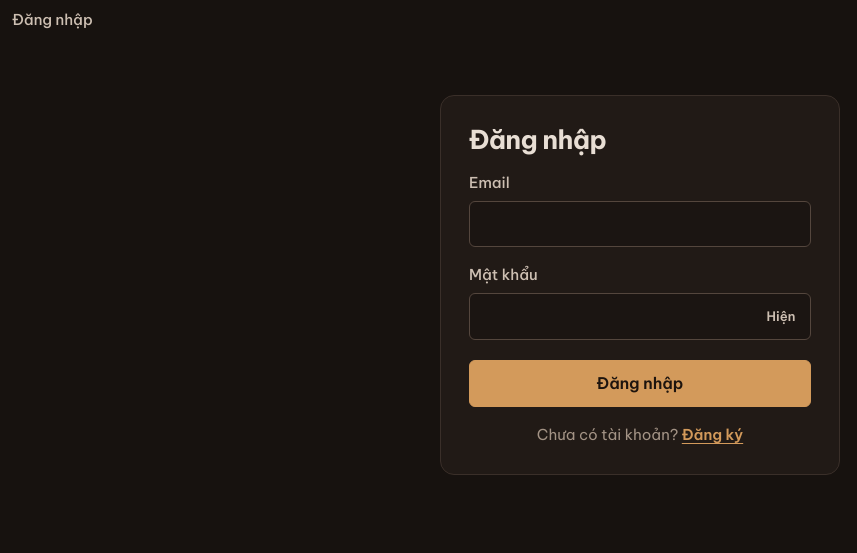
Test: AuthForm › validate phía client, không gọi API khi dữ liệu sai
This screenshot has width=857, height=553.
Type "khong-hop-le" into the field labelled "Email" at (640, 224), box top-left (469, 201), bottom-right (811, 248)
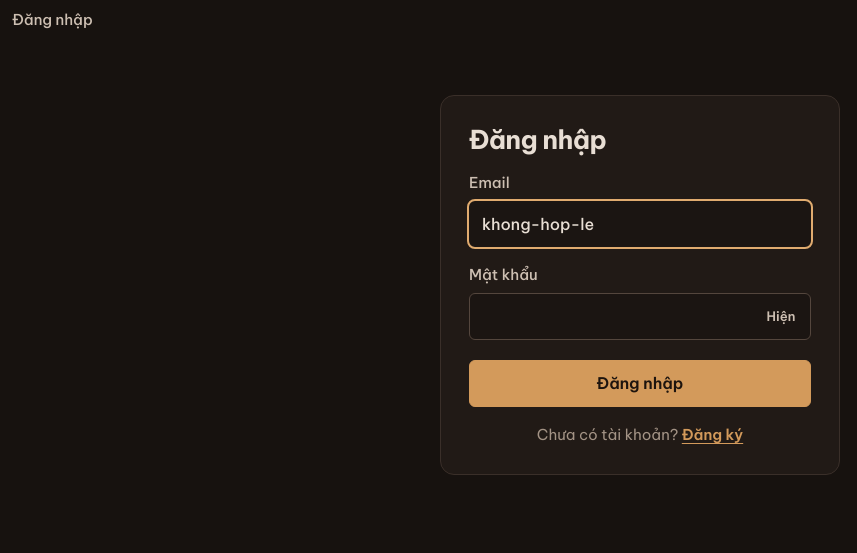
Click the button "Đăng nhập" at (640, 383), box top-left (469, 360), bottom-right (811, 407)
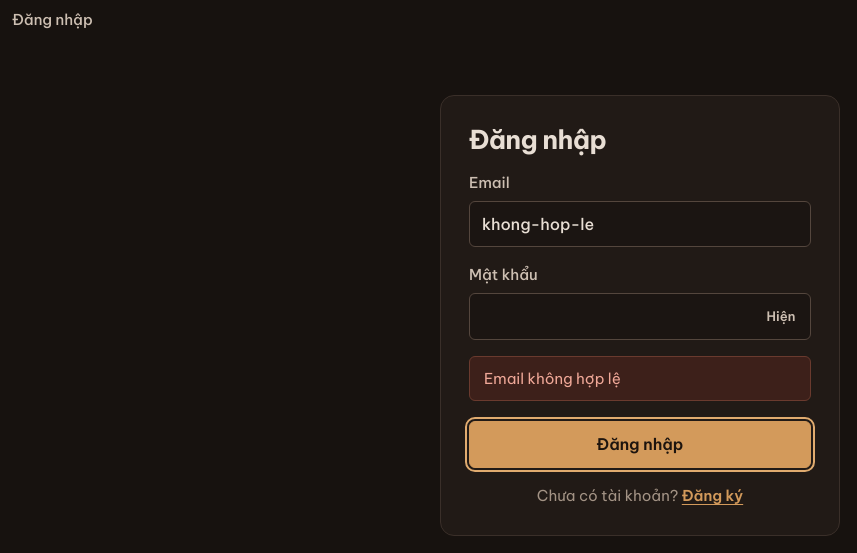
Check: the message reads "Email không hợp lệ", box top-left (484, 368), bottom-right (621, 388)
